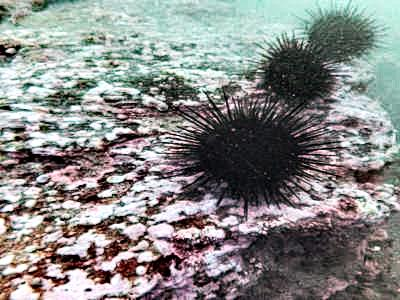urchin: (168, 86, 343, 208), (261, 29, 337, 103), (307, 2, 382, 62)
